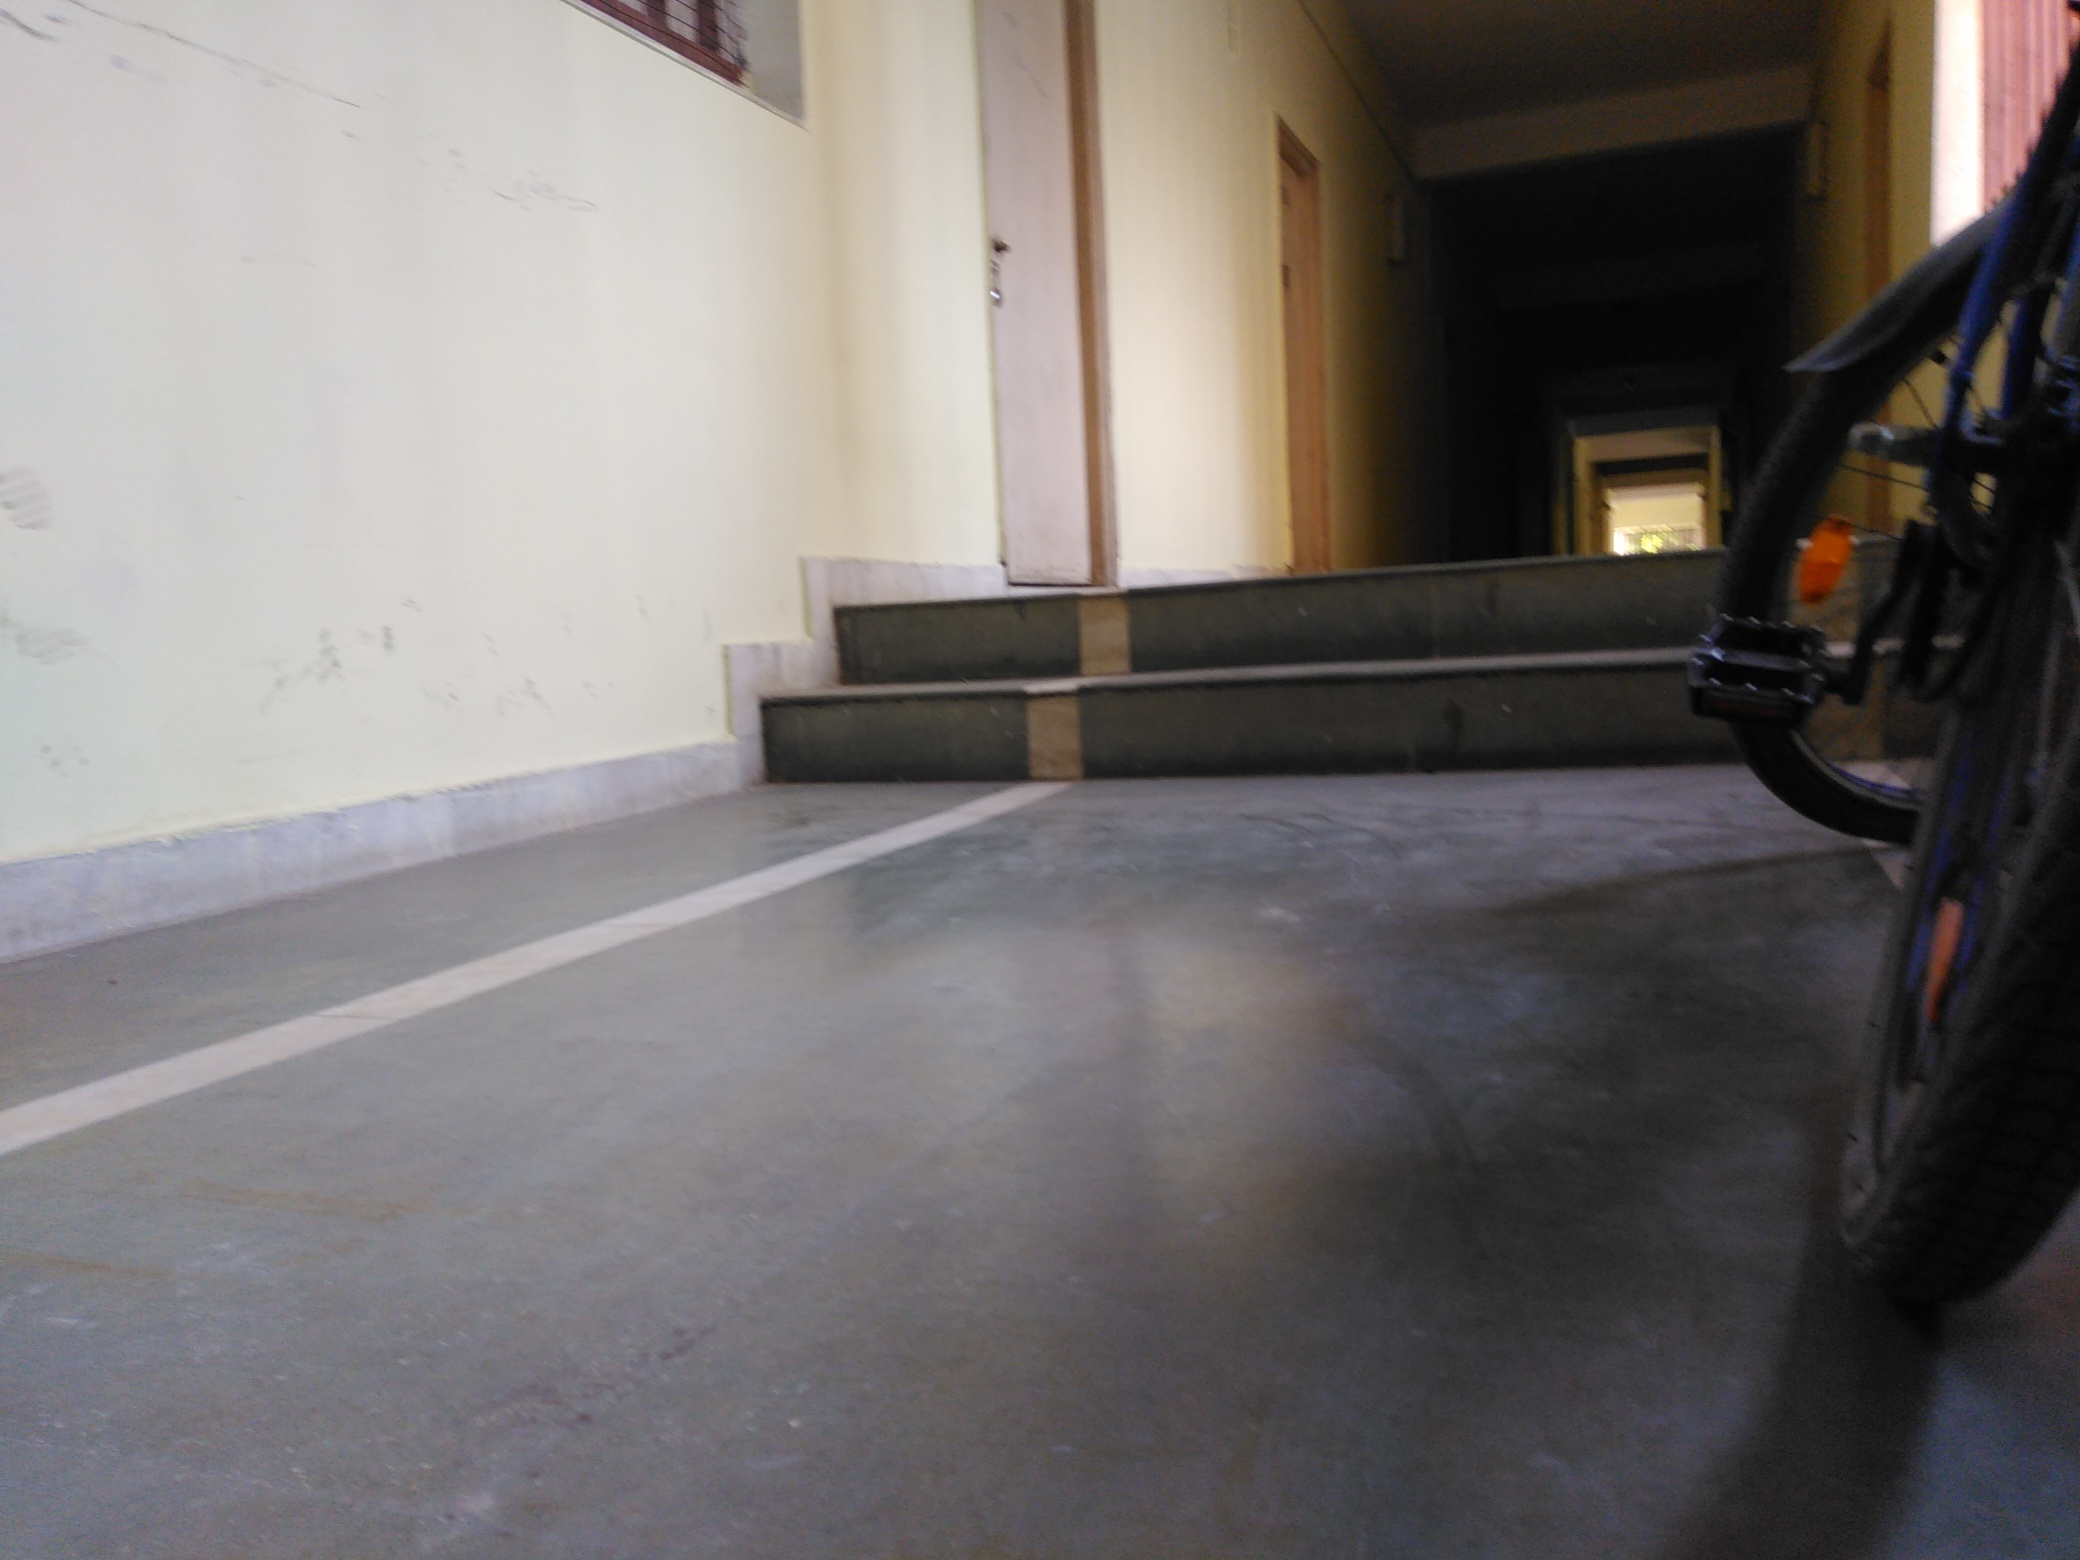stairs_up: (753, 531, 1697, 816)
